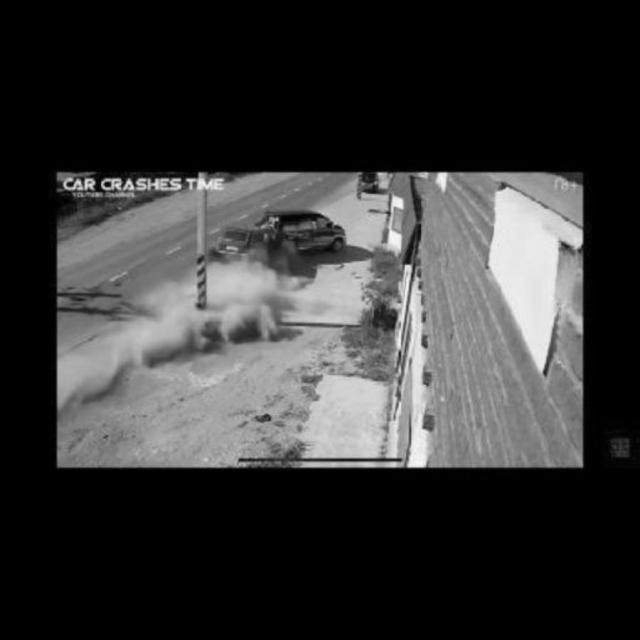accident: (207, 208, 349, 288)
vehicle: (352, 169, 390, 195)
